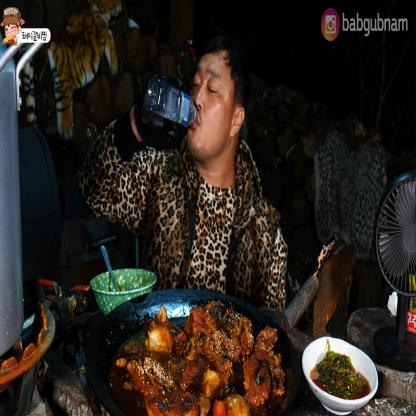streamer: (80, 36, 287, 312)
